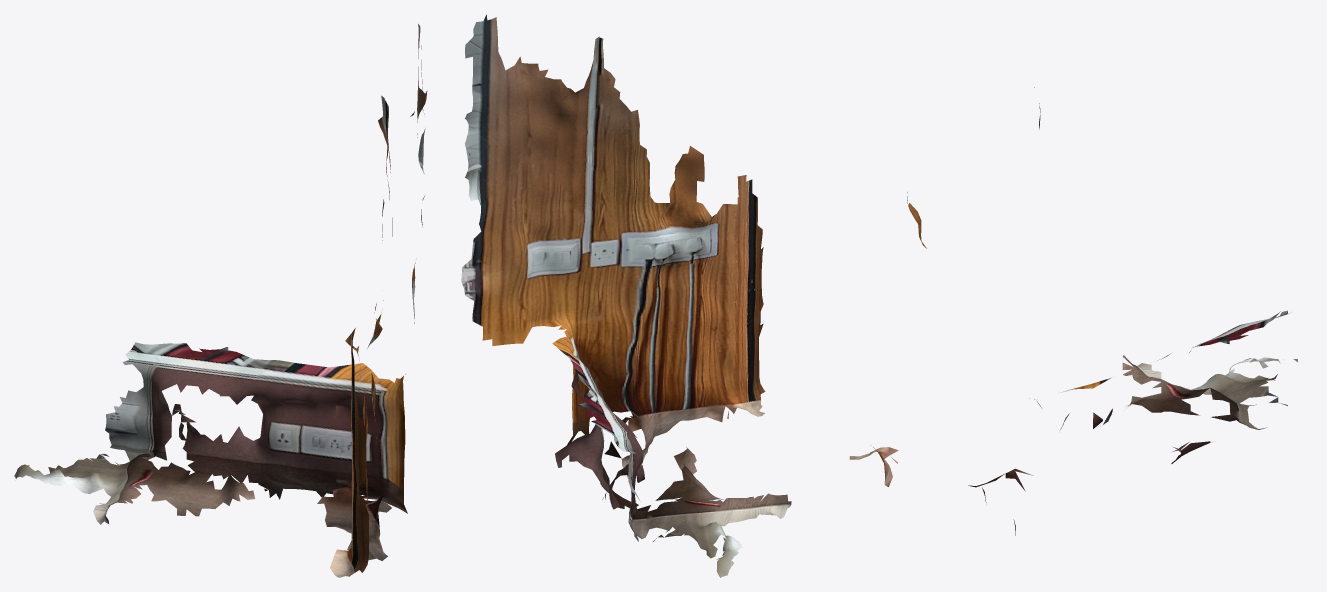
The model's file is 138777-Map1-tex.glb.
3 renders of one model, left to right at view 1: azimuth 30°, elevation 25°; view 2: azimuth 150°, elevation 25°; view 3: azimuth 270°, elevation 25°, orthographic. The views are drawn at different scales.
Parts seen in each view (by area): view 1: Node; view 2: Node; view 3: Node.
Part boxes in pixels (bbox=[...]): Node: bbox=[14, 24, 427, 577]; Node: bbox=[461, 14, 791, 577]; Node: bbox=[849, 87, 1297, 535].
Size of the model in its own units: 1.27 by 1.69 by 1.26.
1 material, 1 textured.
